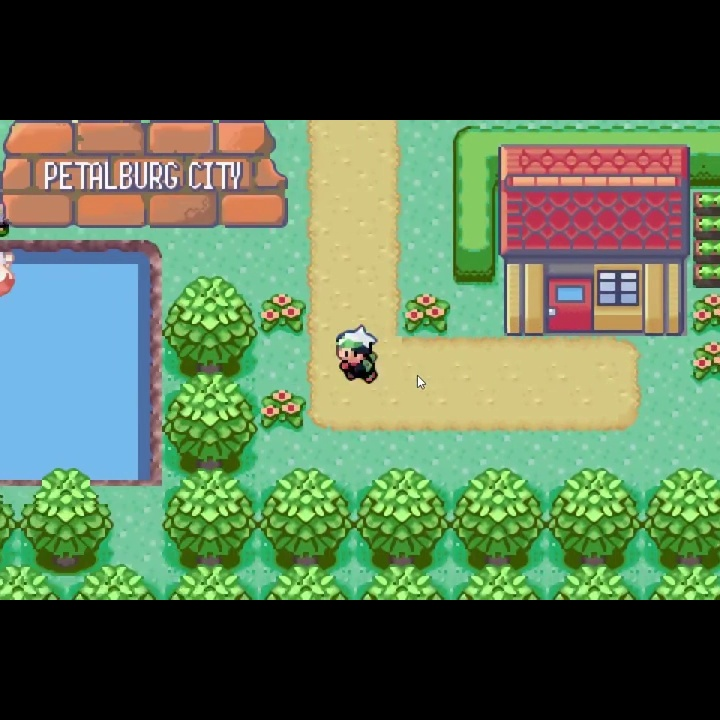house: (496, 141, 692, 339)
npc: (331, 324, 382, 389)
wall: (545, 466, 644, 572), (162, 471, 260, 572), (355, 467, 452, 569), (262, 468, 356, 573), (162, 372, 259, 472), (21, 467, 115, 569), (163, 275, 258, 375), (453, 467, 545, 570), (643, 466, 720, 572), (256, 561, 353, 600), (159, 561, 254, 600), (450, 563, 544, 600), (545, 563, 639, 600), (64, 564, 158, 600), (356, 563, 449, 599), (640, 563, 720, 600), (1, 566, 63, 600)
